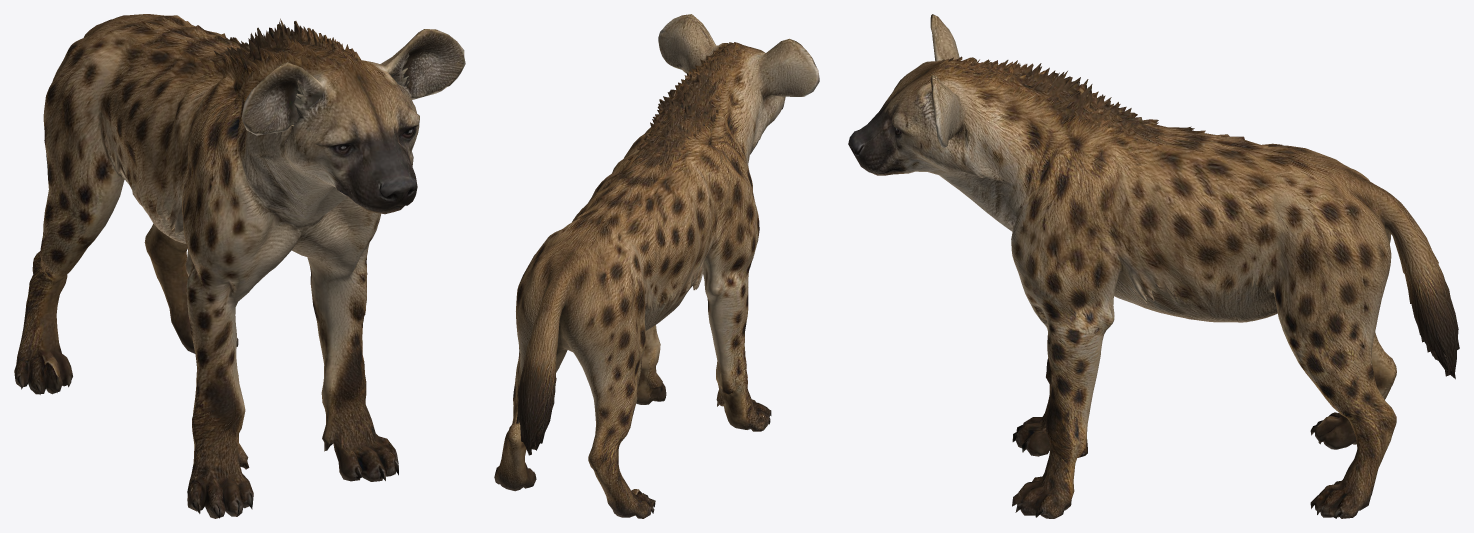
Rendered from hyena.glb.
3 views of the same model, side by side, from view 1: azimuth 30°, elevation 25°; view 2: azimuth 150°, elevation 25°; view 3: azimuth 270°, elevation 25° (orthographic). The views are drawn at different scales.
Visible parts, largest first — view 1: tripo_node_0ce52c4d-03d0-4f5f-b583-fce0342ee313; view 2: tripo_node_0ce52c4d-03d0-4f5f-b583-fce0342ee313; view 3: tripo_node_0ce52c4d-03d0-4f5f-b583-fce0342ee313.
Part boxes in pixels (x1,y1,x2,y2): tripo_node_0ce52c4d-03d0-4f5f-b583-fce0342ee313: (14, 14, 465, 518); tripo_node_0ce52c4d-03d0-4f5f-b583-fce0342ee313: (494, 14, 819, 518); tripo_node_0ce52c4d-03d0-4f5f-b583-fce0342ee313: (848, 14, 1459, 518).
Bounding box in the file's own units: 0.3658 × 0.7644 × 0.9804.
Materials: 1 (1 with a texture image).
